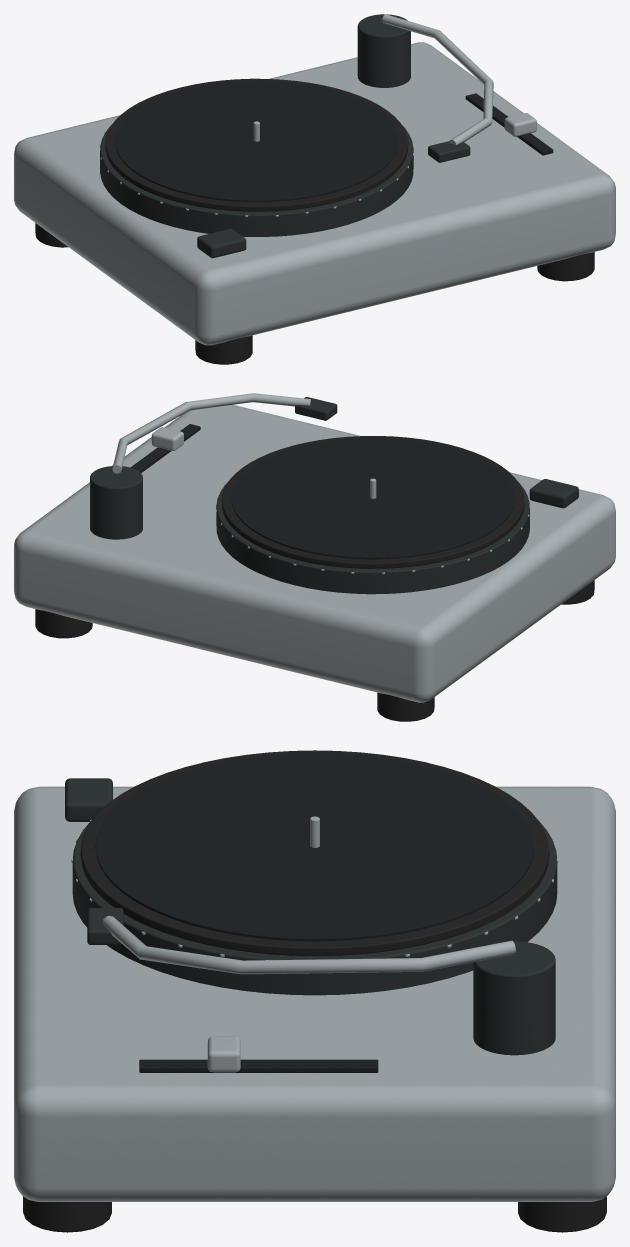
Rendered from turntable.glb.
3 views of the same model, one above another, from view 1: azimuth 30°, elevation 25°; view 2: azimuth 150°, elevation 25°; view 3: azimuth 270°, elevation 25° (orthographic). The views are drawn at different scales.
Parts seen in each view (by area): view 1: Direct-drive chassis, Layered platter.002, Layered platter, Layered platter.001, Tonearm gimbal, S-shaped tonearm, Isolation foot, Isolation foot.002, Start stop key, Pitch fader slot, Headshell, Pitch fader cap; view 2: Direct-drive chassis, Layered platter.002, Layered platter, Layered platter.001, Tonearm gimbal, S-shaped tonearm, Isolation foot.001, Isolation foot.003, Start stop key, Headshell, Pitch fader cap, Pitch fader slot; view 3: Direct-drive chassis, Layered platter.002, Layered platter, Layered platter.001, Tonearm gimbal, S-shaped tonearm, Pitch fader slot, Isolation foot.002, Isolation foot.003, Start stop key, Pitch fader cap, Headshell.
Boxes of the visible parts, left/top/right/bottom form: Direct-drive chassis: left=14, top=42, right=615, bottom=345; Layered platter.002: left=115, top=80, right=398, bottom=201; Layered platter: left=100, top=125, right=413, bottom=236; Layered platter.001: left=105, top=78, right=408, bottom=211; Tonearm gimbal: left=357, top=14, right=410, bottom=87; S-shaped tonearm: left=382, top=14, right=493, bottom=145; Isolation foot: left=195, top=335, right=252, bottom=364; Isolation foot.002: left=537, top=252, right=594, bottom=281; Start stop key: left=197, top=228, right=246, bottom=258; Pitch fader slot: left=465, top=93, right=553, bottom=155; Headshell: left=428, top=141, right=470, bottom=162; Pitch fader cap: left=504, top=113, right=536, bottom=136; Direct-drive chassis: left=14, top=405, right=615, bottom=702; Layered platter.002: left=231, top=437, right=514, bottom=559; Layered platter: left=216, top=481, right=529, bottom=594; Layered platter.001: left=221, top=436, right=524, bottom=568; Tonearm gimbal: left=90, top=466, right=142, bottom=539; S-shaped tonearm: left=112, top=393, right=310, bottom=473; Isolation foot.001: left=377, top=692, right=434, bottom=721; Isolation foot.003: left=35, top=609, right=92, bottom=638; Start stop key: left=529, top=479, right=578, bottom=508; Headshell: left=295, top=397, right=337, bottom=420; Pitch fader cap: left=151, top=427, right=183, bottom=450; Pitch fader slot: left=130, top=424, right=200, bottom=472; Direct-drive chassis: left=14, top=786, right=615, bottom=1201; Layered platter.002: left=95, top=753, right=534, bottom=941; Layered platter: left=72, top=821, right=557, bottom=995; Layered platter.001: left=80, top=750, right=549, bottom=956; Tonearm gimbal: left=473, top=941, right=555, bottom=1055; S-shaped tonearm: left=102, top=916, right=515, bottom=974; Pitch fader slot: left=139, top=1059, right=378, bottom=1072; Isolation foot.002: left=23, top=1196, right=111, bottom=1232; Isolation foot.003: left=518, top=1196, right=606, bottom=1232; Start stop key: left=65, top=778, right=112, bottom=821; Pitch fader cap: left=207, top=1036, right=240, bottom=1072; Headshell: left=87, top=908, right=123, bottom=944.
Bounding box in the file's own units: 0.454 × 0.1645 × 0.365.
4 materials, 4 textured.
